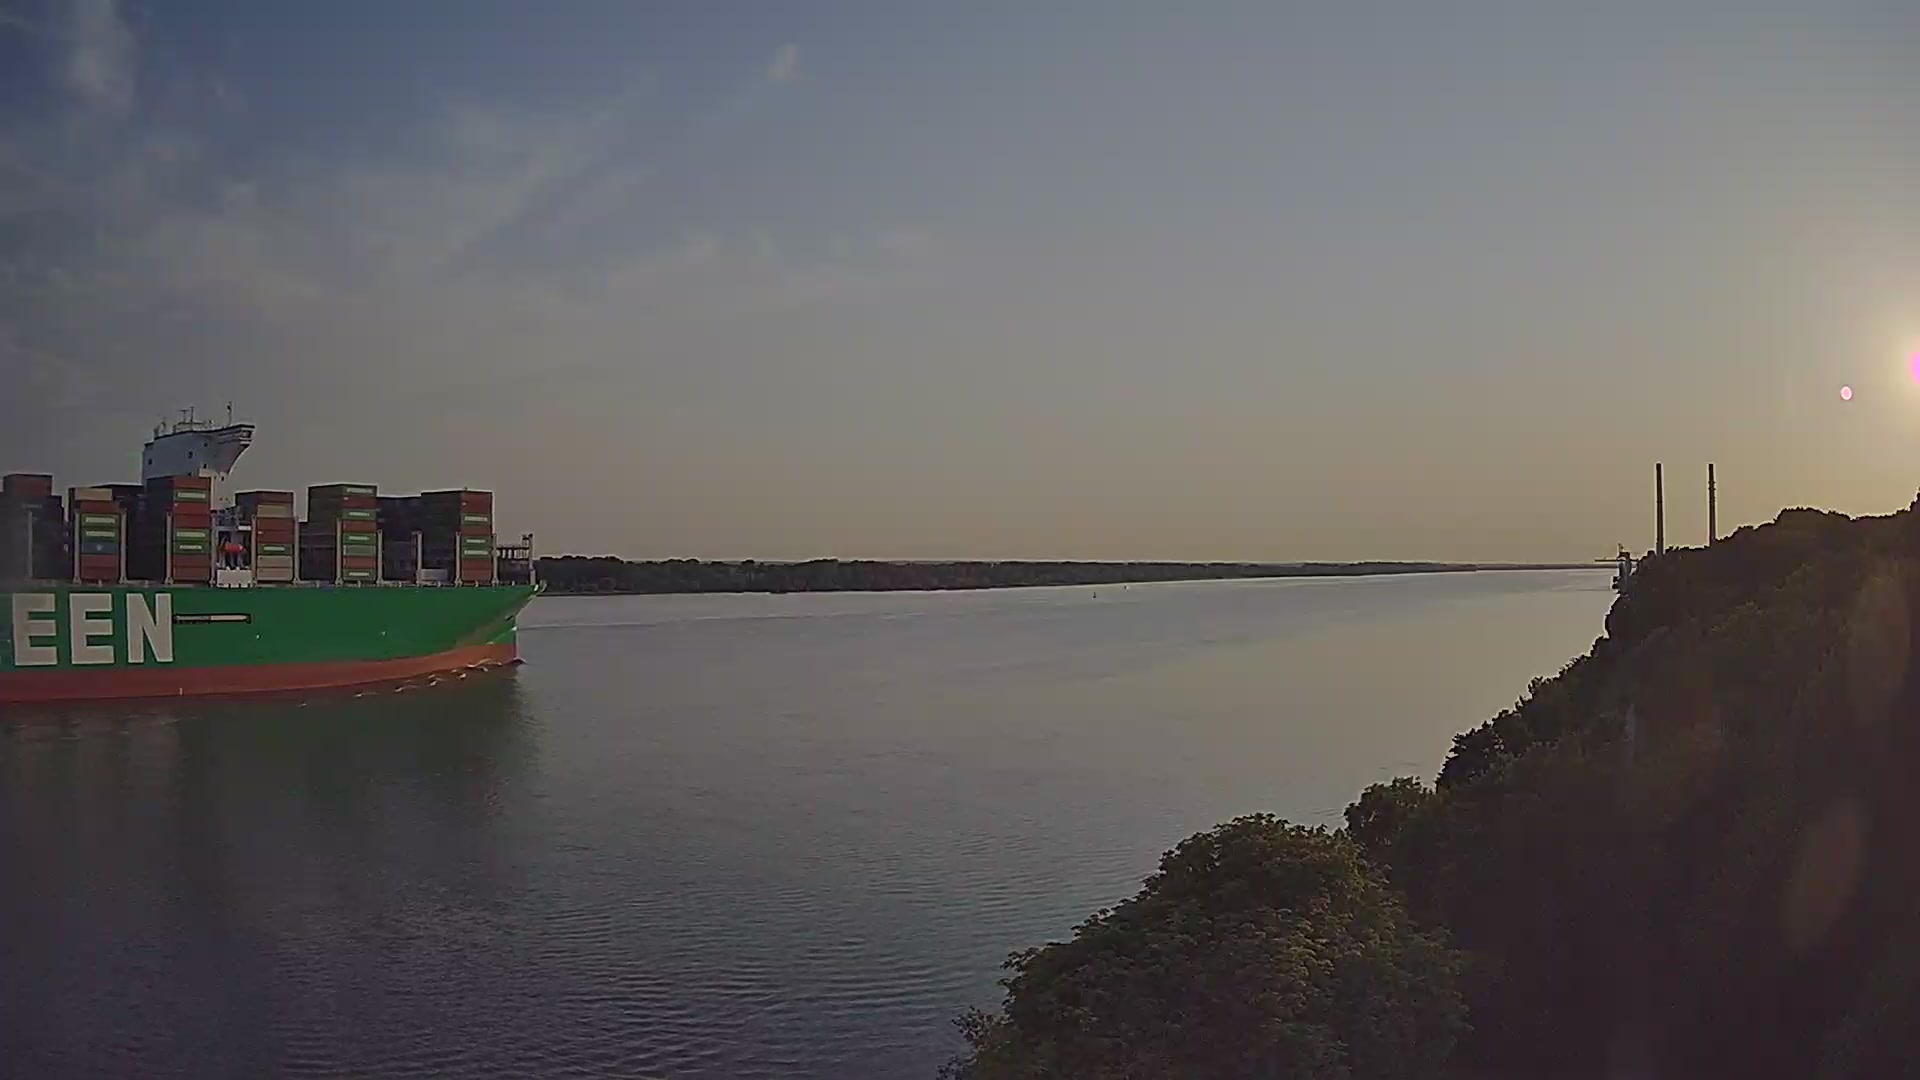sea: (1, 398, 547, 705)
